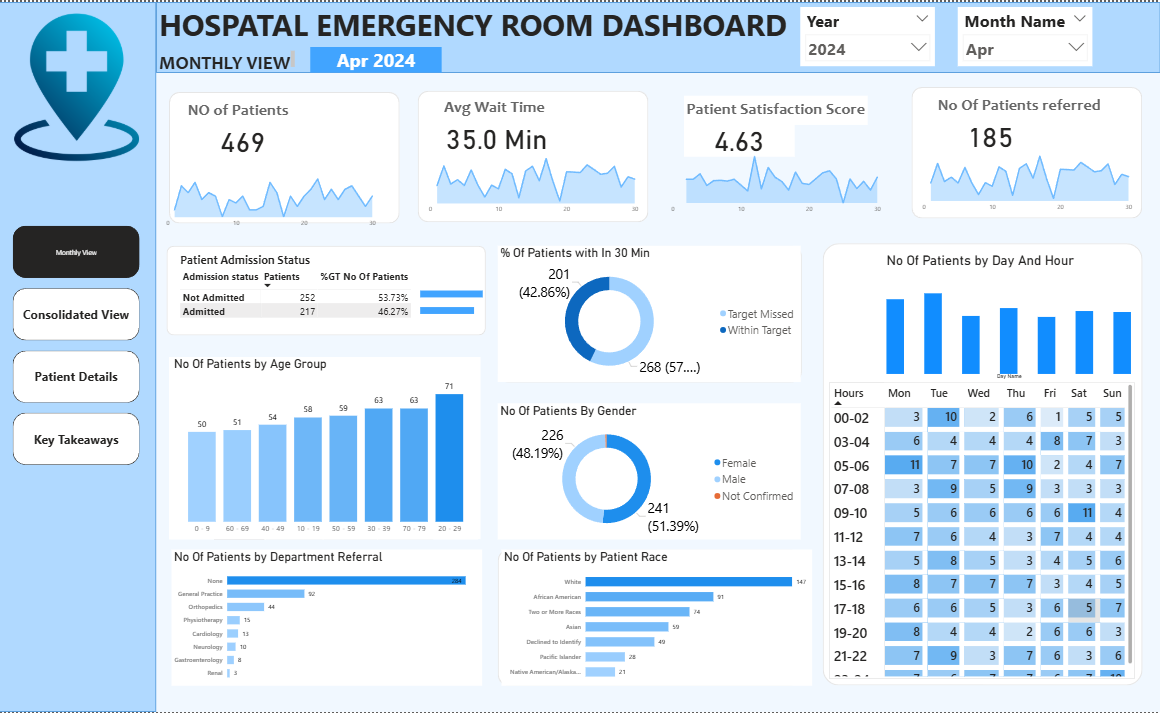

This screenshot's page, from the dashboard's own definition file:
{"tool":"powerbi","page":{"name":"Monthly View","canvas":[2300,1400],"ordinal":0},"visuals":[{"type":"shape","box":[9.1,0,310,1400.5],"z":0},{"type":"shape","box":[319.9,0,1980.1,140],"z":1000},{"type":"textbox","box":[319.9,0,1270.7,90.6],"z":2000},{"type":"textbox","box":[319.9,90.6,277.7,48.3],"z":3000},{"type":"slicer","fields":{"Values":["Date Table.Year"]},"box":[1591.3,9.5,265.7,117.1],"z":4000},{"type":"slicer","fields":{"Values":["Date Table.Month Name"]},"box":[1901.4,9.5,265.7,117.1],"z":5000},{"type":"card","fields":{"Values":["Min(Date Table.Month & Year)"]},"box":[623.2,88.6,259.4,50.6],"z":6000},{"type":"shape","box":[834.8,174.5,455,259.4],"z":7000},{"type":"card","title":"No of Patients","fields":{"Values":["Hospital ER_Data.Avg Wait Time"]},"box":[882.7,227.8,218.3,75.9],"z":8000},{"type":"textbox","box":[882.7,183.5,306.9,56.9],"z":9000},{"type":"areaChart","fields":{"Category":["Date Table.Date.Variation.Date Hierarchy.Day"],"Y":["Avg(Hospital ER_Data.Patient Waittime)"]},"box":[844.7,281.6,433.4,145.5],"z":10000},{"type":"shape","box":[344.3,178.2,455,259.4],"z":11000},{"type":"card","title":"No of Patients","fields":{"Values":["Hospital ER_Data.No Of Patients"]},"box":[376.5,230.9,227.8,75.9],"z":12000},{"type":"textbox","box":[376.5,186.7,382.8,53.8],"z":13000},{"type":"areaChart","fields":{"Category":["Date Table.Date.Variation.Date Hierarchy.Day"],"Y":["Hospital ER_Data.No Of Patients"]},"box":[326.9,307.9,433.4,145.5],"z":14000},{"type":"card","title":"No of Patients","fields":{"Values":["Hospital ER_Data.Satisfaction Score"]},"box":[1360.9,228.3,218.3,75.9],"z":15000},{"type":"textbox","box":[1361.3,184.1,362.2,57.3],"z":16000},{"type":"areaChart","fields":{"Category":["Date Table.Date.Variation.Date Hierarchy.Day"],"Y":["Hospital ER_Data.Satisfaction Score"]},"box":[1322.9,282.1,433.4,145.5],"z":17000},{"type":"shape","box":[1809.8,168.7,455,259.4],"z":18000},{"type":"card","title":"No of Patients","fields":{"Values":["Hospital ER_Data.No Of Patients Referred"]},"box":[1857.6,222,218.3,75.9],"z":19000},{"type":"textbox","box":[1857.1,177.2,395.5,63.3],"z":20000},{"type":"areaChart","fields":{"Category":["Date Table.Date.Variation.Date Hierarchy.Day"],"Y":["Avg(Hospital ER_Data.Patient Waittime)"]},"box":[1819.6,275.7,433.4,145.5],"z":21000},{"type":"shape","box":[341.1,479.9,630,177],"z":22000},{"type":"pivotTable","title":"Patient Admission Status","fields":{"Rows":["Hospital ER_Data.Admission status"],"Values":["Hospital ER_Data.No Of Patients1","Hospital ER_Data.No Of Patients"]},"box":[362.2,492,609.7,147.9],"z":23000},{"type":"barChart","fields":{"Category":["Hospital ER_Data.Admission status"],"Y":["Hospital ER_Data.No Of Patients"]},"box":[836.1,540.3,157,99.6],"z":24000},{"type":"pivotTable","title":"Patient Admission Status","box":[344.1,700.3,609.7,360],"z":25000},{"type":"clusteredColumnChart","fields":{"Category":["Hospital ER_Data.Age Group"],"Y":["Hospital ER_Data.No Of Patients"]},"box":[350.1,700.3,609.7,359.2],"z":26000},{"type":"clusteredBarChart","fields":{"Category":["Hospital ER_Data.Department Referral"],"Y":["Hospital ER_Data.No Of Patients"]},"box":[350.1,1080.6,612.7,268.6],"z":27000},{"type":"shape","box":[993,479.9,600,270],"z":28000},{"type":"shape","box":[1636,476.9,630.8,872.3],"z":29000},{"type":"donutChart","title":"% Of Patients with In 30 Min","fields":{"Category":["Hospital ER_Data.Wait Time"],"Y":["Hospital ER_Data.No Of Patients"]},"box":[993,479.9,597.6,268.6],"z":30000},{"type":"donutChart","title":"No Of Patients By Gender","fields":{"Y":["Hospital ER_Data.No Of Patients"],"Category":["Hospital ER_Data.Patient Gender"]},"box":[993,790.8,597.6,268.6],"z":31000},{"type":"shape","box":[993,1080.6,597.6,268.6],"z":32000},{"type":"clusteredBarChart","fields":{"Y":["Hospital ER_Data.No Of Patients"],"Category":["Hospital ER_Data.Patient Race"]},"box":[1002.1,1080.6,612.7,268.6],"z":33000},{"type":"pivotTable","fields":{"Rows":["Hospital ER_Data.Wait Time Interval"],"Columns":["Date Table.Day Name"],"Values":["Hospital ER_Data.No Of Patients"]},"box":[1648,748.6,603.7,585.6],"z":34000},{"type":"columnChart","title":"No Of Patients by Day And Hour","fields":{"Category":["Date Table.Day Name"],"Y":["Hospital ER_Data.No Of Patients"]},"box":[1756.7,492,495,256.6],"z":35000},{"type":"image","box":[12.1,18.1,301.8,301.8],"z":36000},{"type":"pageNavigator","box":[36.2,440.7,250.5,473.9],"z":37000}]}

Visuals, with their boxes in screenshot pixels (x1, y1, x2, y2), scaled from the page's 2300x1400 canvas onto the 1160x713 screenshot:
shape: box(5, 0, 161, 712)
shape: box(161, 0, 1159, 71)
textbox: box(161, 0, 802, 46)
textbox: box(161, 46, 301, 71)
slicer - Date Table.Year: box(803, 5, 937, 64)
slicer - Date Table.Month Name: box(959, 5, 1093, 64)
card - Min(Date Table.Month & Year): box(314, 45, 445, 71)
shape: box(421, 89, 651, 221)
"No of Patients" card: box(445, 116, 555, 155)
textbox: box(445, 93, 600, 122)
areaChart - Date Table.Date.Variation.Date Hierarchy.Day x Avg(Hospital ER_Data.Patient Waittime): box(426, 143, 645, 218)
shape: box(174, 91, 403, 223)
"No of Patients" card: box(190, 118, 305, 156)
textbox: box(190, 95, 383, 122)
areaChart - Date Table.Date.Variation.Date Hierarchy.Day x Hospital ER_Data.No Of Patients: box(165, 157, 383, 231)
"No of Patients" card: box(686, 116, 796, 155)
textbox: box(687, 94, 869, 123)
areaChart - Date Table.Date.Variation.Date Hierarchy.Day x Hospital ER_Data.Satisfaction Score: box(667, 144, 886, 218)
shape: box(913, 86, 1142, 218)
"No of Patients" card: box(937, 113, 1047, 152)
textbox: box(937, 90, 1136, 122)
areaChart - Date Table.Date.Variation.Date Hierarchy.Day x Avg(Hospital ER_Data.Patient Waittime): box(918, 140, 1136, 215)
shape: box(172, 244, 490, 335)
"Patient Admission Status" pivotTable: box(183, 251, 490, 326)
barChart - Hospital ER_Data.Admission status x Hospital ER_Data.No Of Patients: box(422, 275, 501, 326)
"Patient Admission Status" pivotTable: box(174, 357, 481, 540)
clusteredColumnChart - Hospital ER_Data.Age Group x Hospital ER_Data.No Of Patients: box(177, 357, 484, 540)
clusteredBarChart - Hospital ER_Data.Department Referral x Hospital ER_Data.No Of Patients: box(177, 550, 486, 687)
shape: box(501, 244, 803, 382)
shape: box(825, 243, 1143, 687)
"% Of Patients with In 30 Min" donutChart: box(501, 244, 802, 381)
"No Of Patients By Gender" donutChart: box(501, 403, 802, 540)
shape: box(501, 550, 802, 687)
clusteredBarChart - Hospital ER_Data.No Of Patients x Hospital ER_Data.Patient Race: box(505, 550, 814, 687)
pivotTable - Hospital ER_Data.Wait Time Interval x Date Table.Day Name: box(831, 381, 1136, 679)
"No Of Patients by Day And Hour" columnChart: box(886, 251, 1136, 381)
image: box(6, 9, 158, 163)
pageNavigator: box(18, 224, 145, 466)
